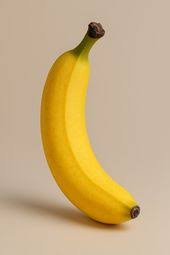banana: (40, 21, 144, 227)
